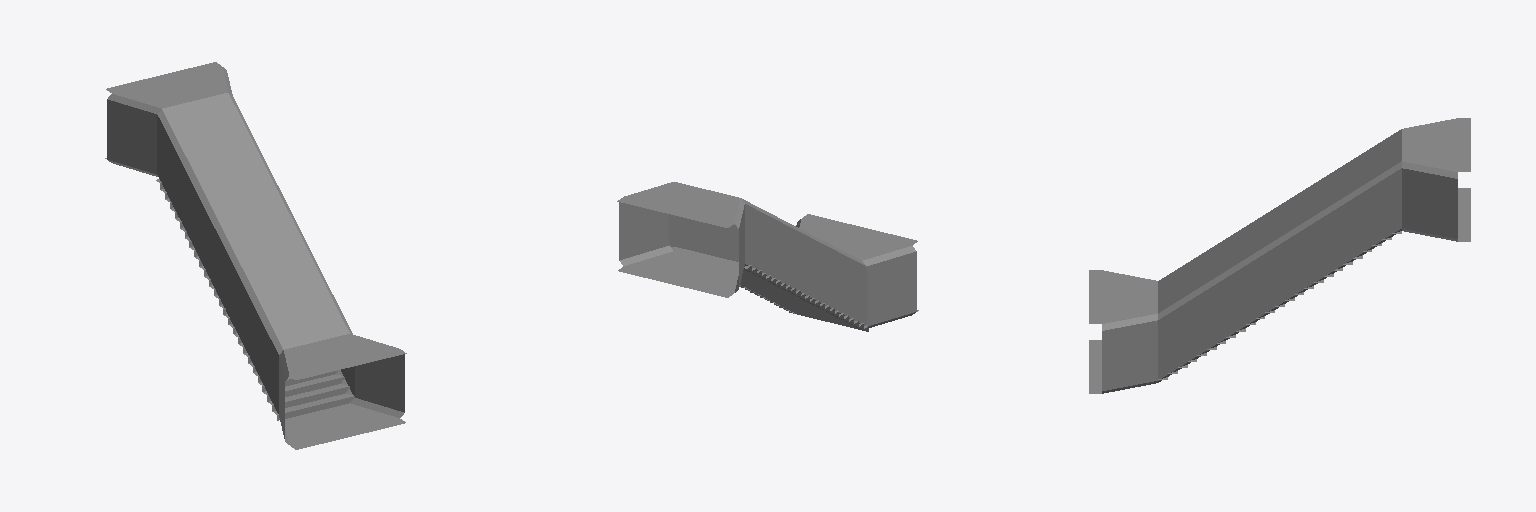
Rendered from Stairway.obj.
3 renders of one model, left to right at view 1: azimuth 30°, elevation 25°; view 2: azimuth 150°, elevation 25°; view 3: azimuth 270°, elevation 25°, orthographic.
Parts seen in each view (by area): view 1: SM_Stairway_E; view 2: SM_Stairway_E; view 3: SM_Stairway_E.
Boxes of the visible parts, x1,y1,x2,y2 form: SM_Stairway_E: [105, 62, 406, 449]; SM_Stairway_E: [617, 182, 918, 331]; SM_Stairway_E: [1089, 118, 1470, 393].
Size of the model in its own units: 213 by 376 by 587.